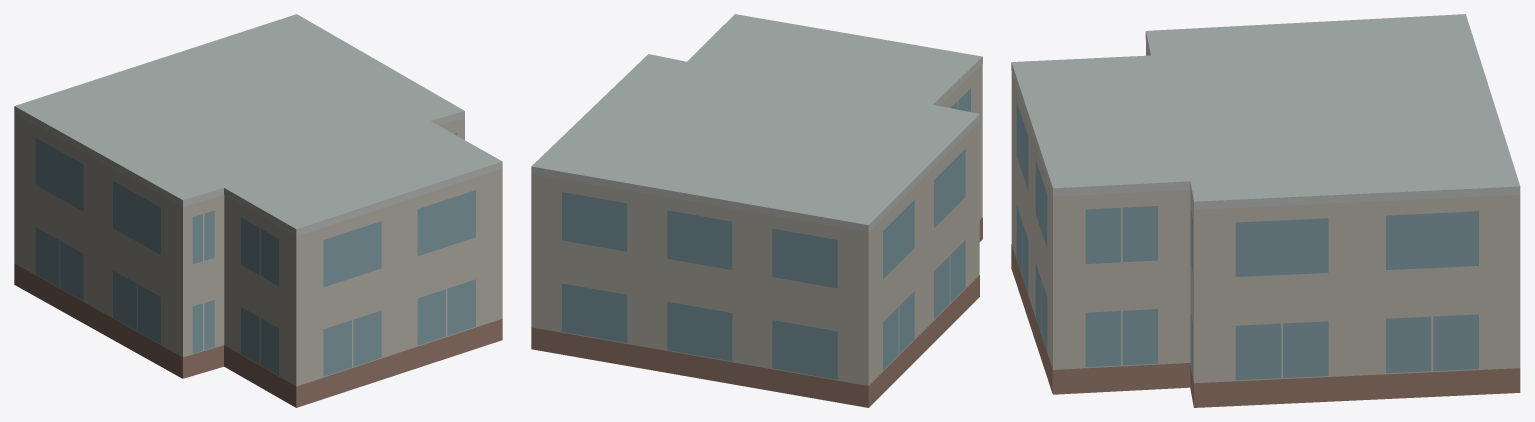
Rendered from survey-upis-32835289.glb.
3 renders of one model, left to right at view 1: azimuth 30°, elevation 25°; view 2: azimuth 150°, elevation 25°; view 3: azimuth 270°, elevation 25°, orthographic. The views are drawn at different scales.
Parts seen in each view (by area): view 1: survey-upis-32835289.tmp; view 2: survey-upis-32835289.tmp; view 3: survey-upis-32835289.tmp.
Boxes of the visible parts, x1,y1,x2,y2 form: survey-upis-32835289.tmp: [14, 14, 502, 407]; survey-upis-32835289.tmp: [531, 14, 982, 407]; survey-upis-32835289.tmp: [1011, 14, 1520, 407].
Bounding box in the file's own units: 11.91 × 6.1 × 13.65.
